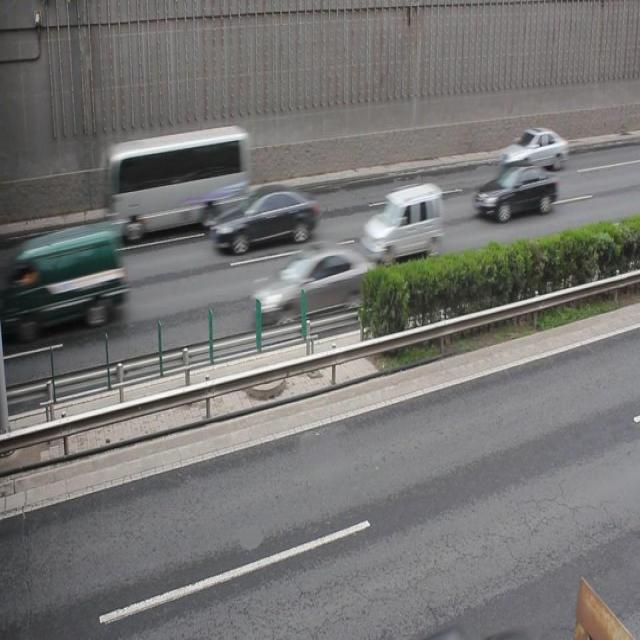car: (254, 251, 382, 319), (216, 187, 315, 250), (474, 163, 557, 217), (502, 124, 566, 172)
truck: (15, 221, 124, 327), (364, 182, 443, 264)
van: (107, 127, 251, 240)
